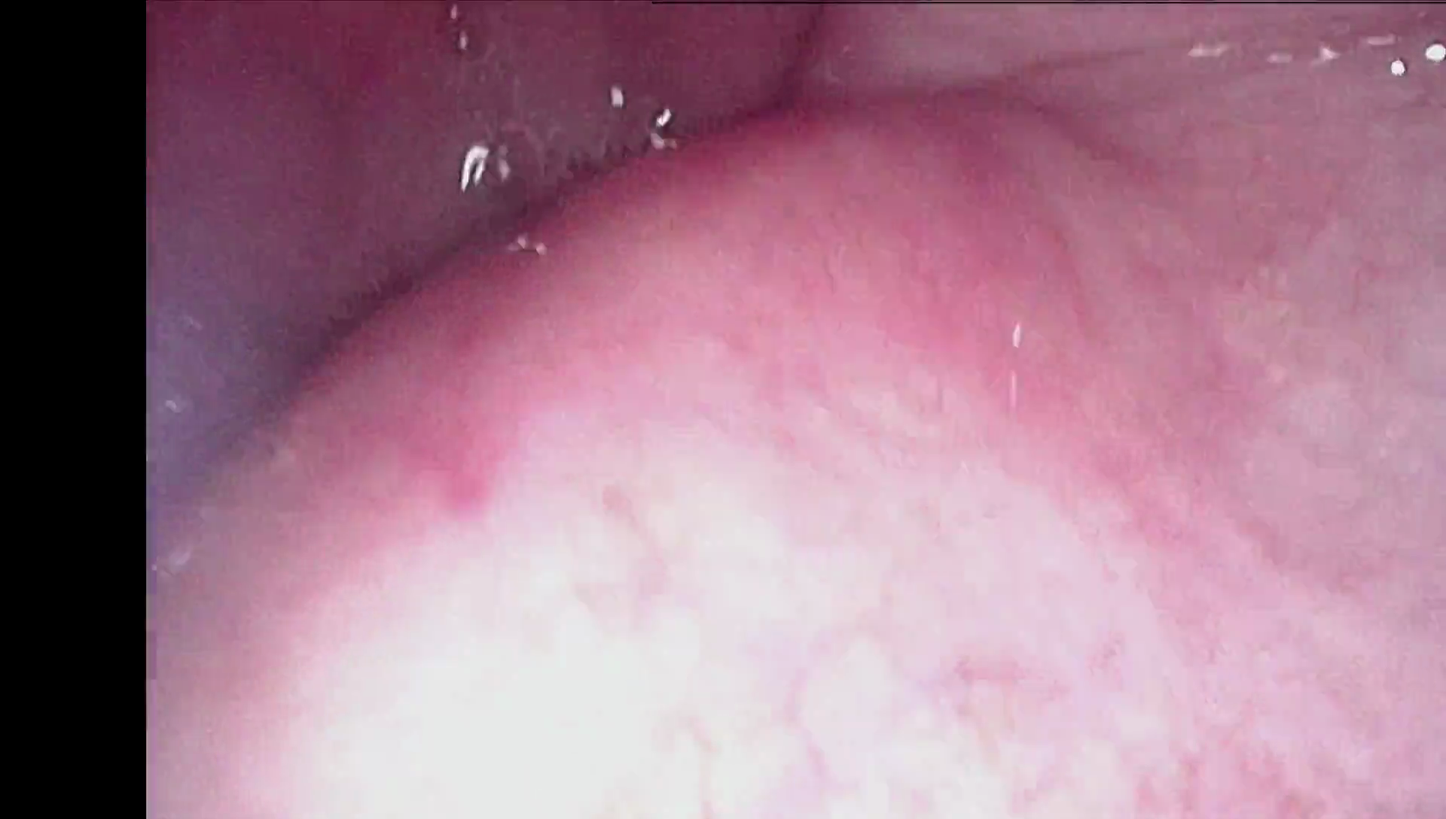close_wall: (304, 334, 1180, 819)
next: (241, 193, 474, 442)
